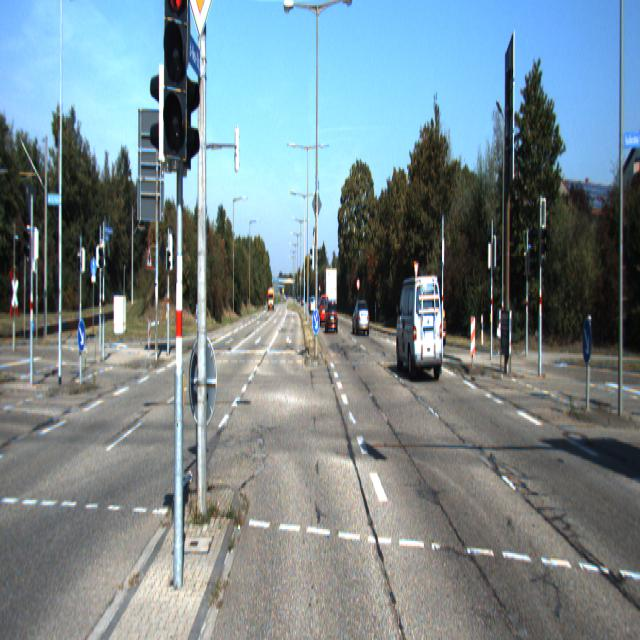Car: (396, 270, 444, 384), (412, 298, 446, 344), (352, 298, 370, 335), (326, 300, 338, 334)
